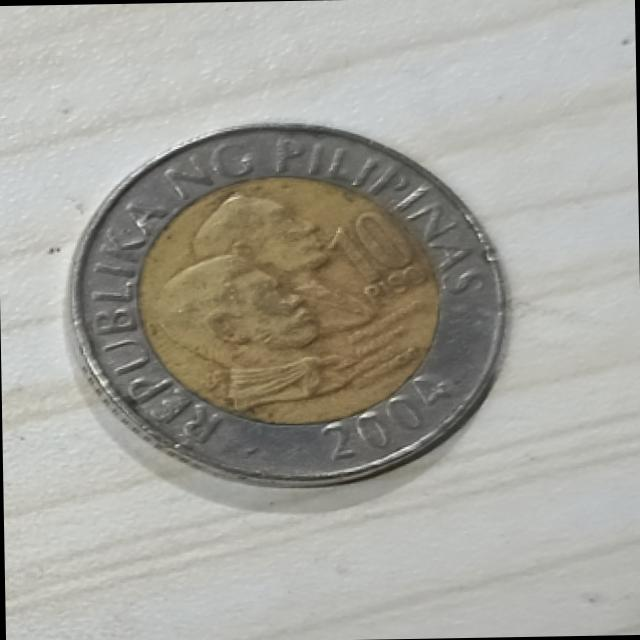10_peso: (71, 125, 503, 484)
